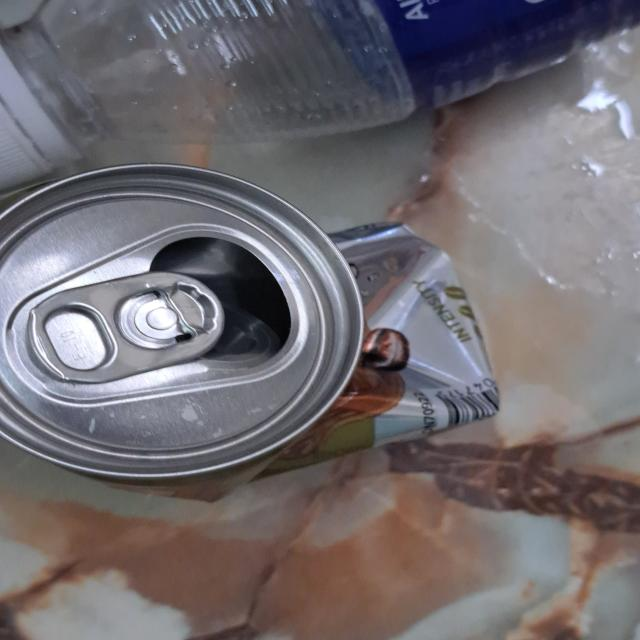can: (0, 162, 505, 501)
plastic bottle: (28, 0, 640, 149)
plastic bottle cap: (0, 52, 57, 194)
pop tab: (27, 273, 226, 387)
